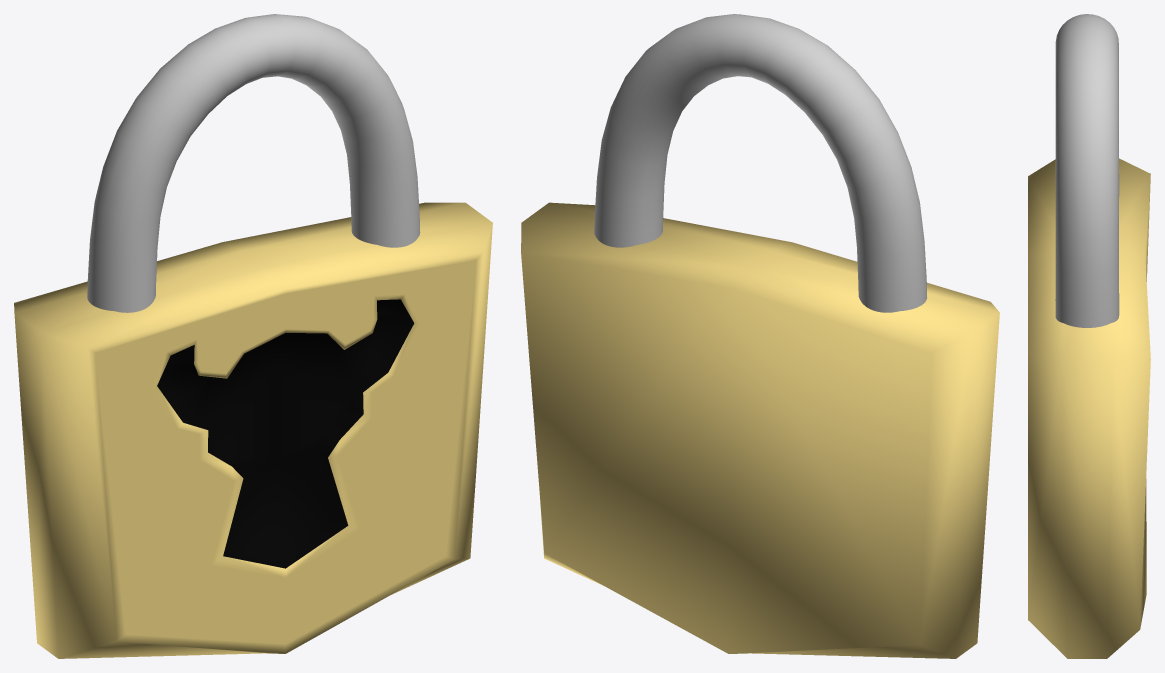
Rendered from BossLock.fbx.
3 renders of one model, left to right at view 1: azimuth 30°, elevation 25°; view 2: azimuth 150°, elevation 25°; view 3: azimuth 270°, elevation 25°, orthographic. The views are drawn at different scales.
Visible parts, largest first — view 1: Master Lock Body, Lock Latch.001; view 2: Master Lock Body, Lock Latch.001; view 3: Master Lock Body, Lock Latch.001.
Part boxes in pixels (<box>): Master Lock Body: <box>14,202,492,658</box>; Lock Latch.001: <box>87,14,420,312</box>; Master Lock Body: <box>521,202,999,658</box>; Lock Latch.001: <box>594,14,927,312</box>; Master Lock Body: <box>1028,158,1150,658</box>; Lock Latch.001: <box>1055,14,1119,327</box>.
Bounding box in the file's own units: 12.88 × 17.05 × 3.28.
